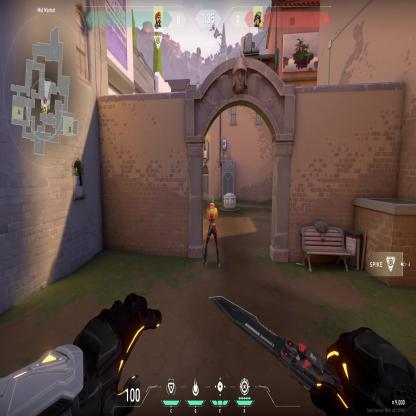enemy: (203, 194, 219, 270)
